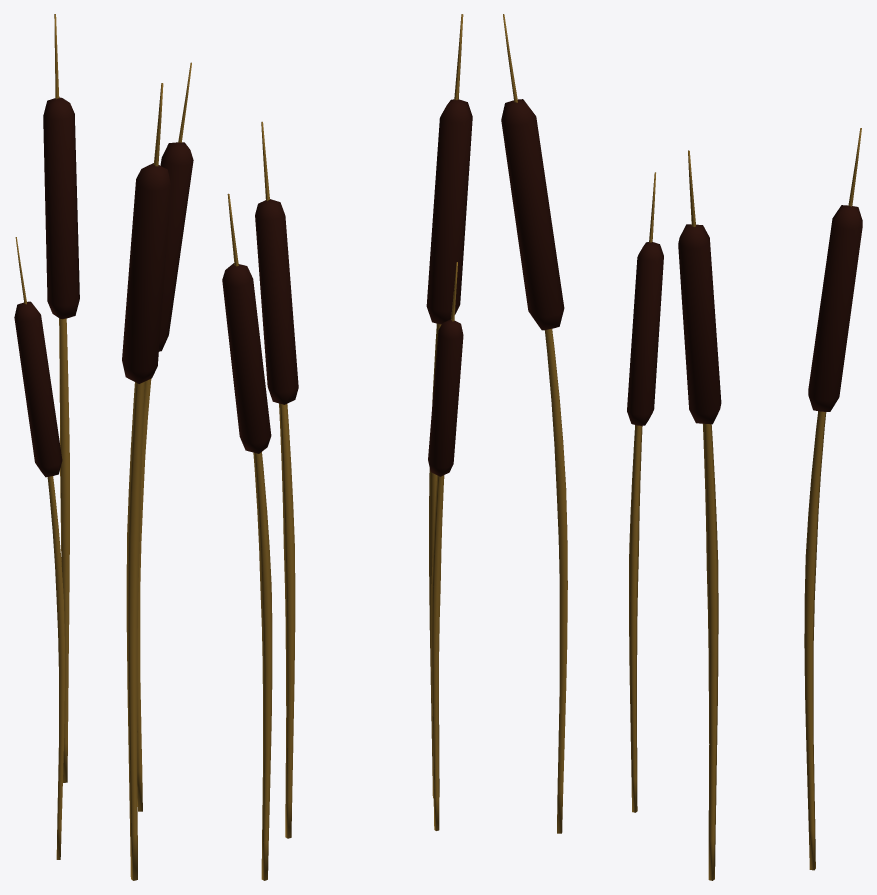
File: reeds.obj
The picture shows the model from 3 angles, left to right: view 1: azimuth 30°, elevation 25°; view 2: azimuth 150°, elevation 25°; view 3: azimuth 270°, elevation 25°; orthographic projection. The views are drawn at different scales.
Visible parts, largest first — view 1: Cube.001, Cube.003_Cube.008, Cube.000_Cube.006, Cube.002_Cube.007; view 2: Cube.002_Cube.007, Cube.003_Cube.008, Cube.001, Cube.000_Cube.006; view 3: Cube.001, Cube.002_Cube.007, Cube.003_Cube.008, Cube.000_Cube.006.
Boxes of the visible parts, x1,y1,x2,y2 form: Cube.001: (122, 83, 170, 880); Cube.003_Cube.008: (43, 14, 79, 782); Cube.000_Cube.006: (14, 237, 64, 859); Cube.002_Cube.007: (137, 62, 193, 811); Cube.002_Cube.007: (255, 121, 298, 838); Cube.003_Cube.008: (222, 193, 272, 880); Cube.001: (426, 14, 472, 798); Cube.000_Cube.006: (428, 262, 463, 830); Cube.001: (501, 14, 567, 833); Cube.002_Cube.007: (678, 150, 721, 880); Cube.003_Cube.008: (804, 128, 862, 870); Cube.000_Cube.006: (627, 172, 663, 812).
Size of the model in its own units: 1.45 by 5.82 by 2.31.
